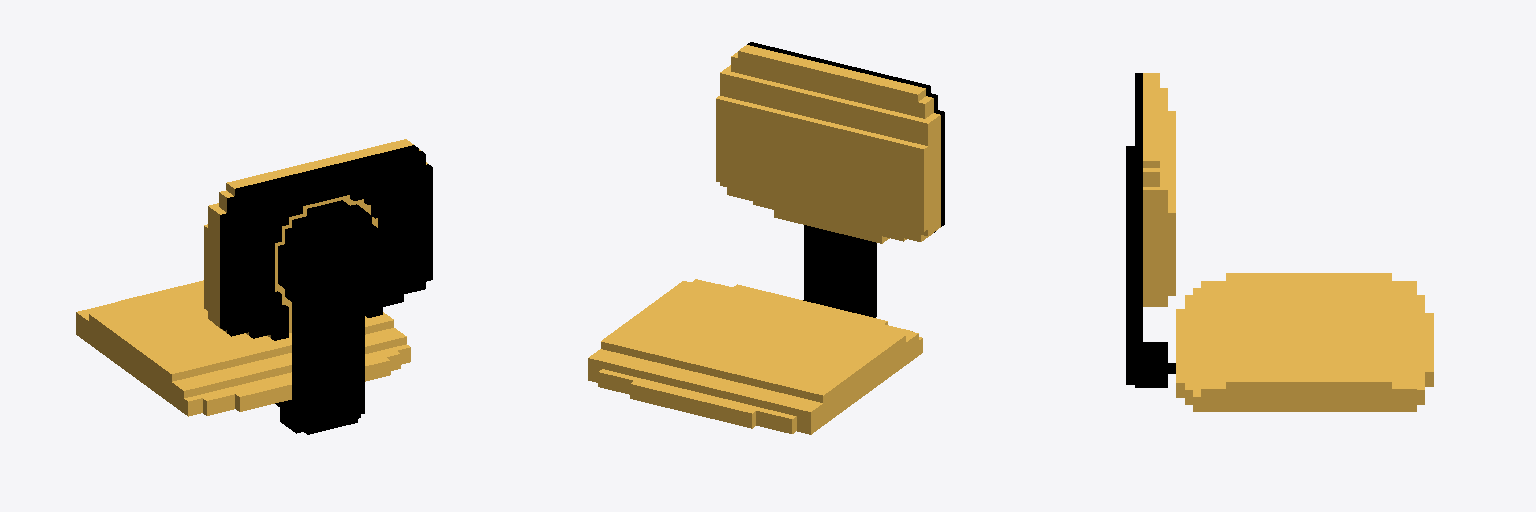
The picture shows the model from 3 angles: view 1: azimuth 30°, elevation 25°; view 2: azimuth 150°, elevation 25°; view 3: azimuth 270°, elevation 25°; orthographic projection.
Visible parts, largest first — view 1: object 1; view 2: object 1; view 3: object 1.
Boxes of the visible parts, x1,y1,x2,y2 form: object 1: [76, 139, 432, 434]; object 1: [588, 42, 944, 434]; object 1: [1126, 73, 1433, 411].
Bounding box in the file's own units: 3.1 × 3.7 × 3.7.
Materials: 1 (1 with a texture image).